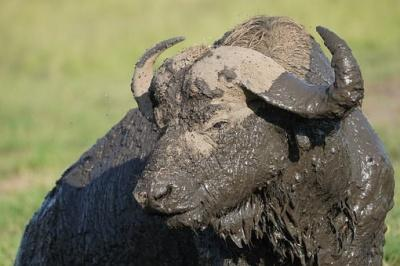buffalo: (14, 16, 393, 265)
